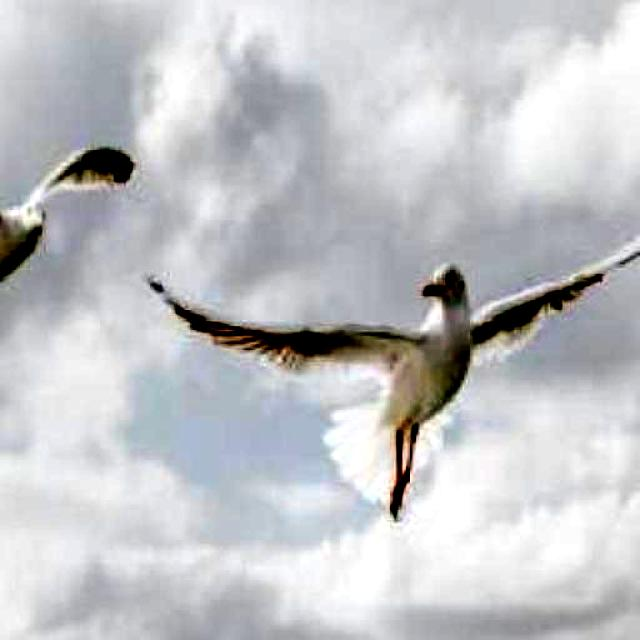airplane: (152, 250, 640, 500), (0, 145, 138, 305)
